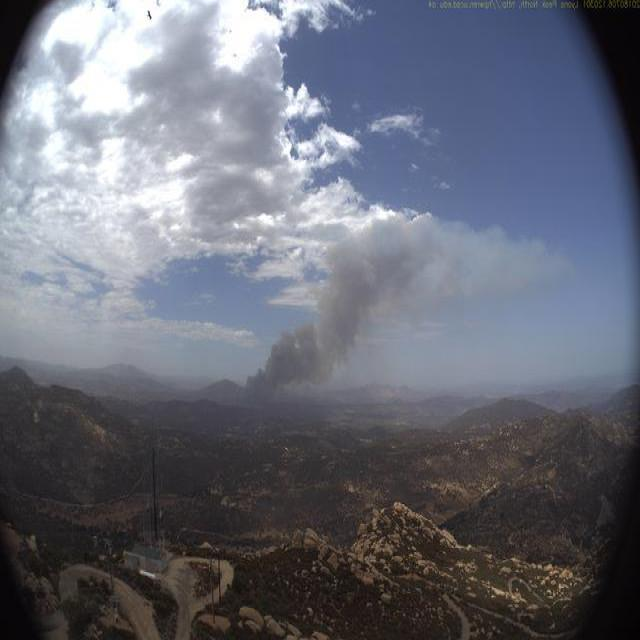smoke: (234, 209, 570, 412)
